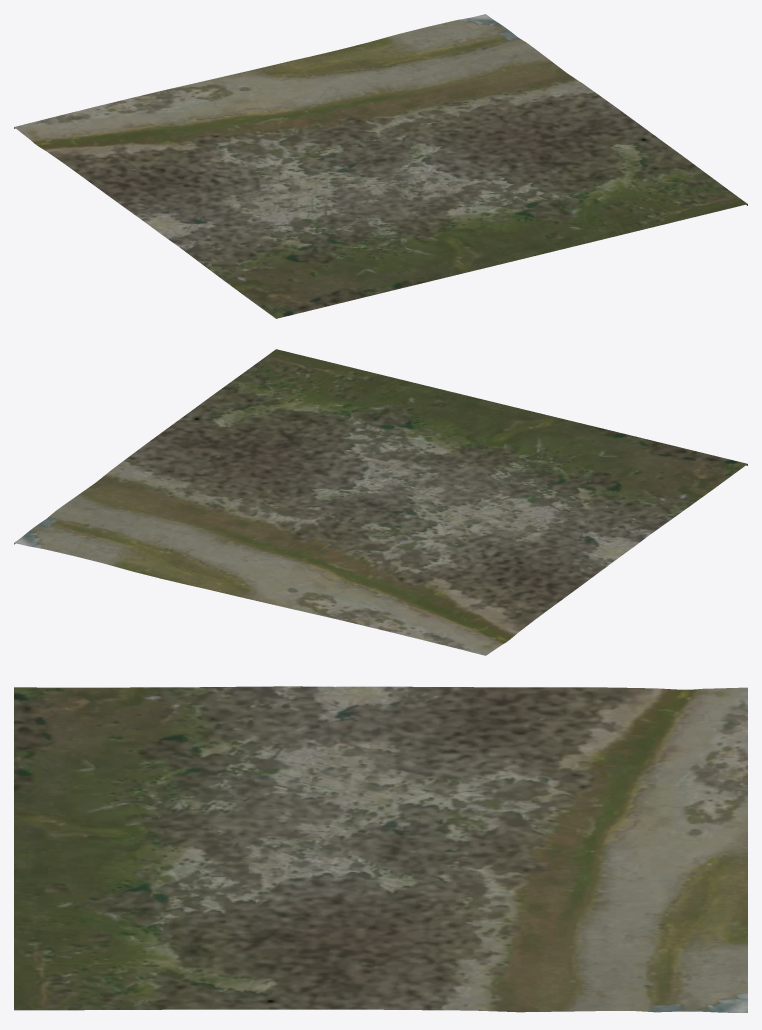
The picture shows the model from 3 angles, top to bottom: view 1: azimuth 30°, elevation 25°; view 2: azimuth 150°, elevation 25°; view 3: azimuth 270°, elevation 25°; orthographic projection. The views are drawn at different scales.
Bounding box in the file's own units: 250 × 2.68 × 241.
Materials: 1 (1 with a texture image).
